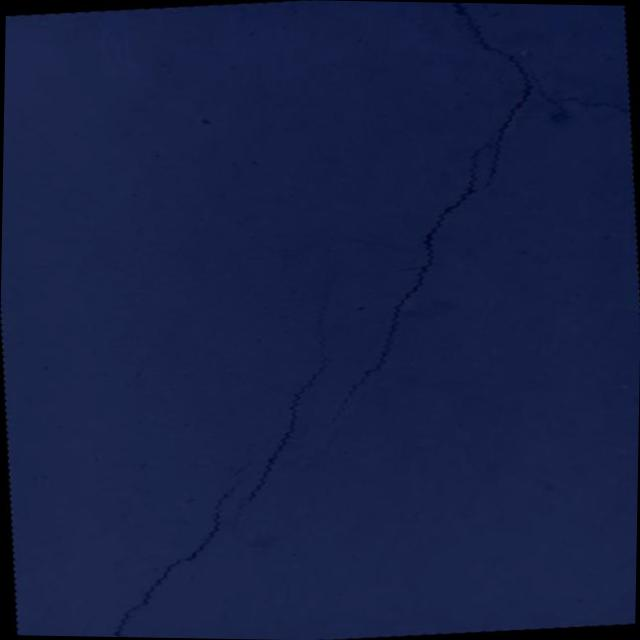crack: (289, 128, 514, 448), (216, 268, 353, 525), (100, 454, 270, 639), (448, 2, 542, 191), (528, 62, 630, 120)
